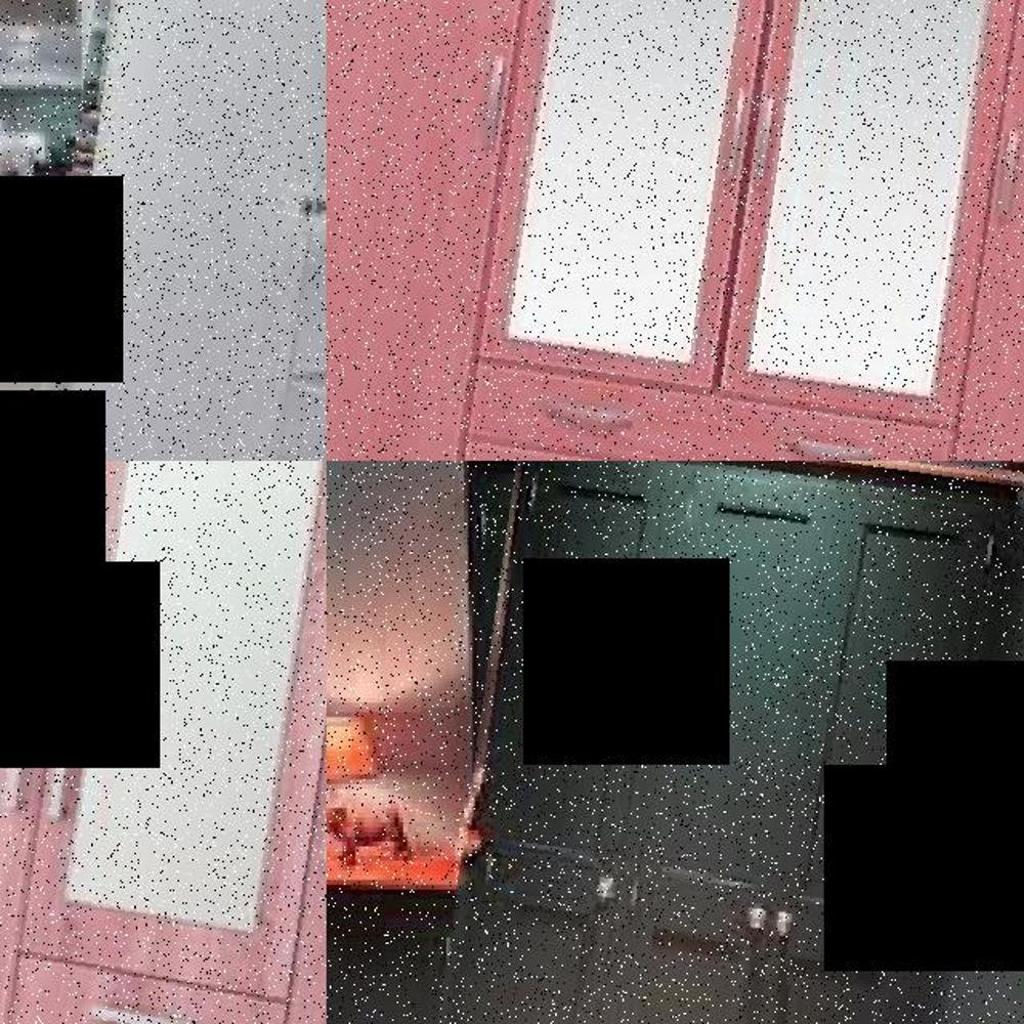cabinet: (432, 461, 1019, 1024), (326, 0, 1024, 461), (0, 461, 326, 1024), (35, 0, 326, 461), (326, 843, 490, 1024)
